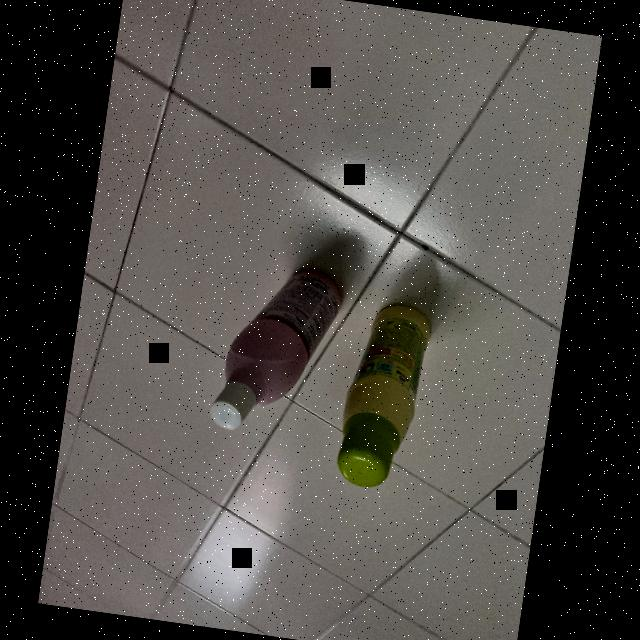chemical_plastic_bottle: (201, 258, 347, 448), (329, 293, 441, 503)
